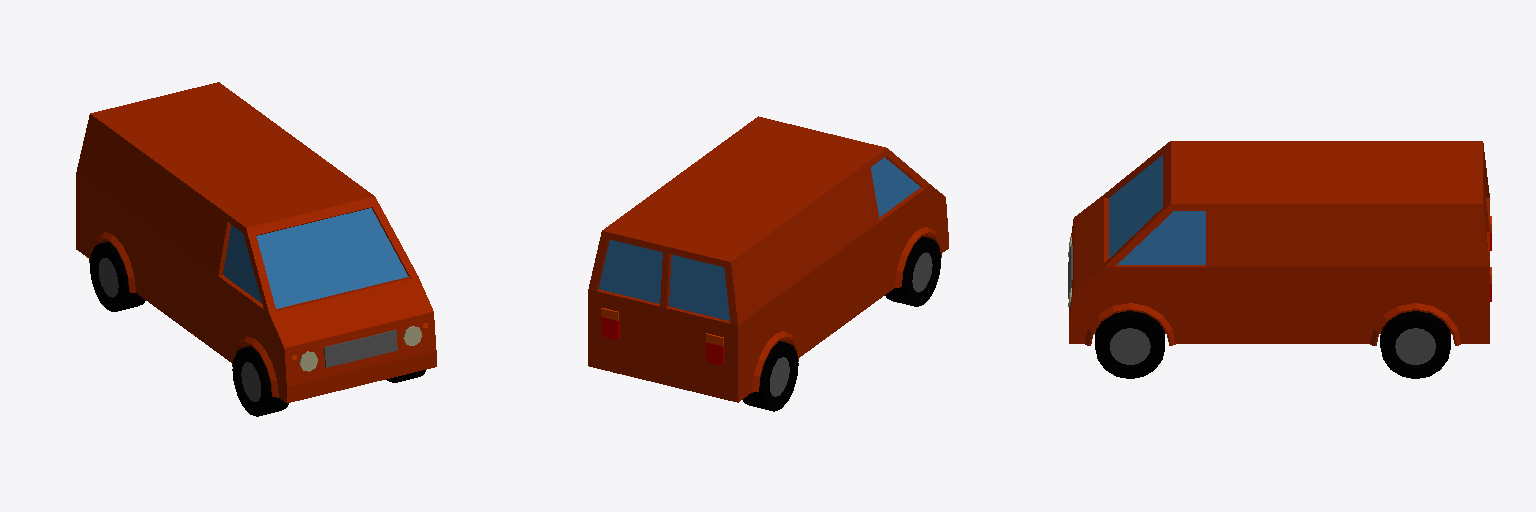
File: car-van-orange.obj
3 renders of one model, left to right at view 1: azimuth 30°, elevation 25°; view 2: azimuth 150°, elevation 25°; view 3: azimuth 270°, elevation 25°, orthographic.
Parts seen in each view (by area): view 1: car-van-orange_Cube.609; view 2: car-van-orange_Cube.609; view 3: car-van-orange_Cube.609.
Part boxes in pixels (bbox=[...]): car-van-orange_Cube.609: bbox=[76, 82, 436, 416]; car-van-orange_Cube.609: bbox=[588, 116, 948, 411]; car-van-orange_Cube.609: bbox=[1068, 141, 1491, 378].
Size of the model in its own units: 0.954 by 0.945 by 2.16.